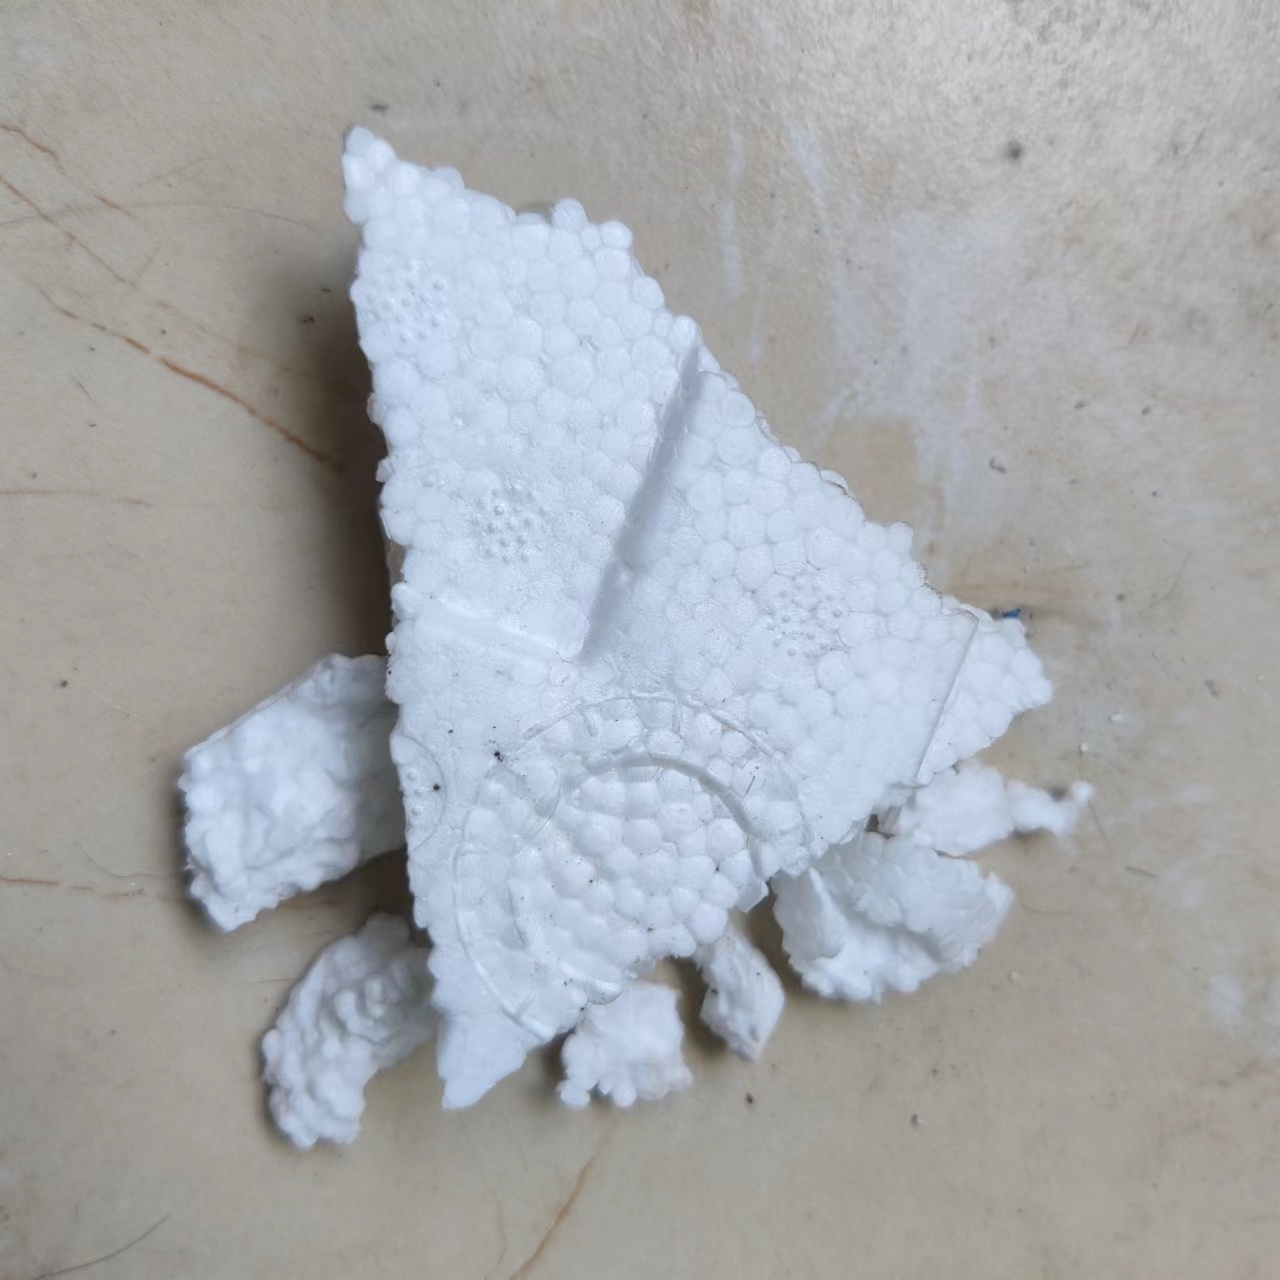5/可回收垃圾/泡沫: (339, 123, 1051, 1108), (173, 652, 411, 930), (260, 911, 442, 1155), (772, 828, 1016, 1005), (874, 760, 1091, 856), (551, 980, 694, 1112), (690, 928, 783, 1063)
